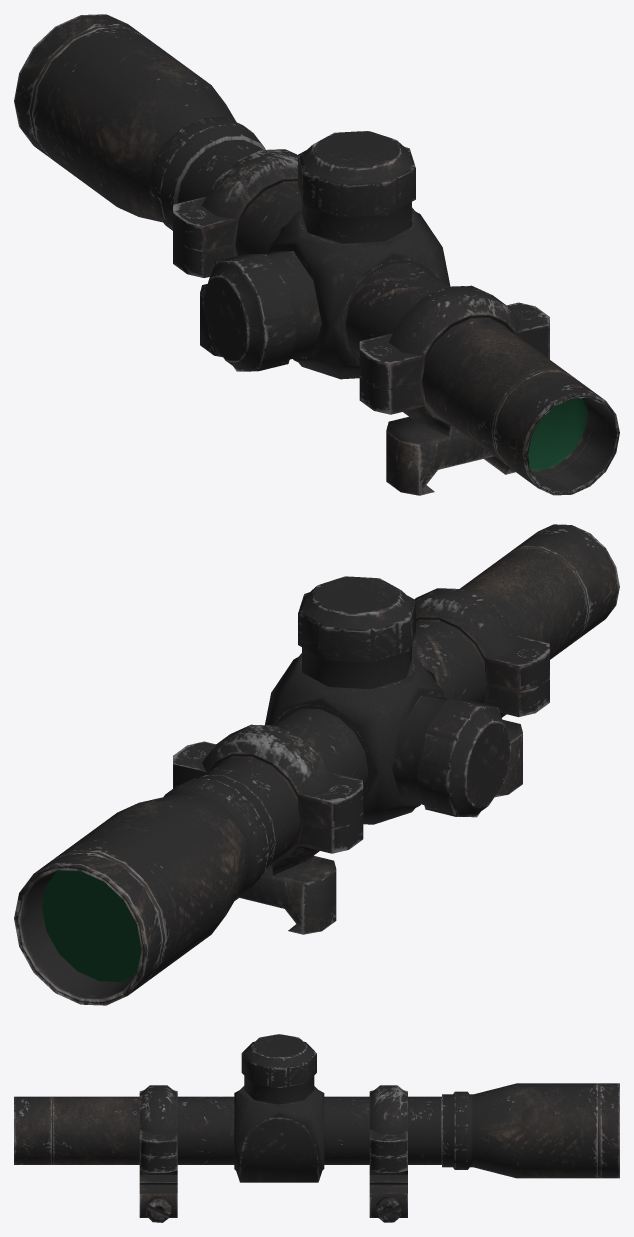
File: rifle-scope__scope.glb
3 renders of one model, top to bottom at view 1: azimuth 30°, elevation 25°; view 2: azimuth 150°, elevation 25°; view 3: azimuth 270°, elevation 25°, orthographic. The views are drawn at different scales.
Visible parts, largest first — view 1: Scope; view 2: Scope; view 3: Scope.
Boxes of the visible parts, x1=… form: Scope: x1=14, y1=14, x2=619, y2=495; Scope: x1=14, y1=524, x2=619, y2=1005; Scope: x1=14, y1=1034, x2=619, y2=1222.
Bounding box in the file's own units: 0.0535 × 0.0584 × 0.2071.
Materials: 1 (1 with a texture image).
